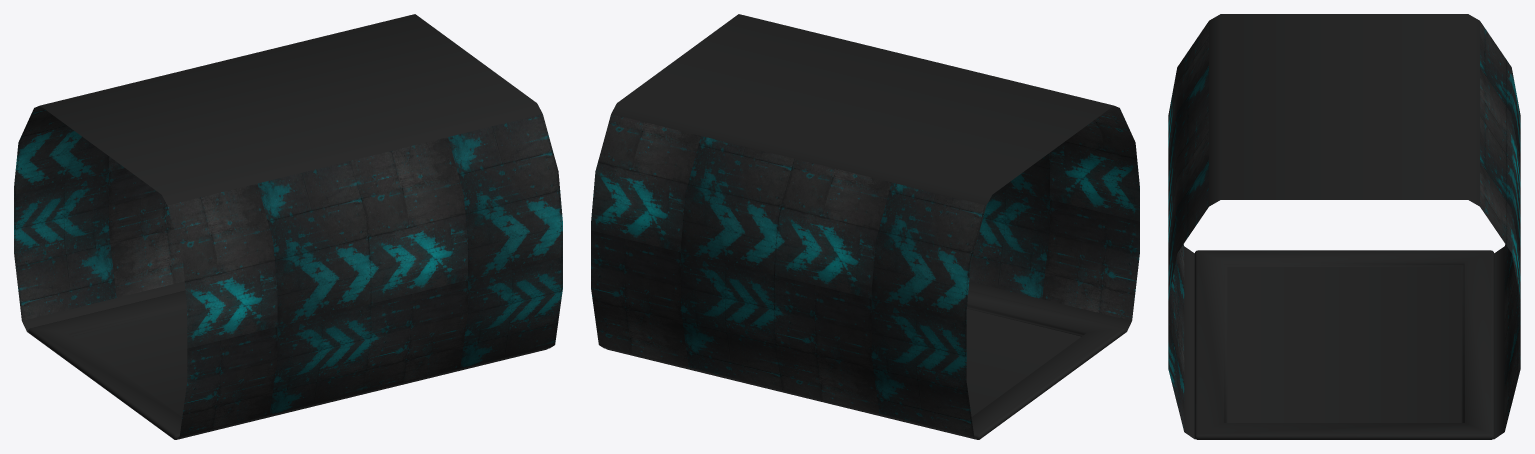
Rendered from corridor_straight.fbx.
3 renders of one model, left to right at view 1: azimuth 30°, elevation 25°; view 2: azimuth 150°, elevation 25°; view 3: azimuth 270°, elevation 25°, orthographic.
Visible parts, largest first — view 1: corridor_straight; view 2: corridor_straight; view 3: corridor_straight.
Part boxes in pixels (x1,y1,x2,y2): corridor_straight: [14, 14, 562, 439]; corridor_straight: [591, 14, 1139, 439]; corridor_straight: [1168, 14, 1520, 439].
Bounding box in the file's own units: 500 × 302 × 400.
